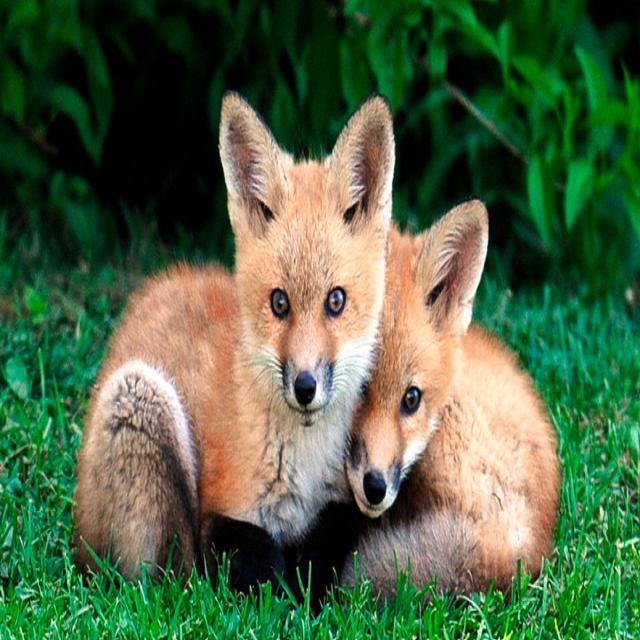Fox: (74, 95, 393, 573), (354, 192, 559, 589)
